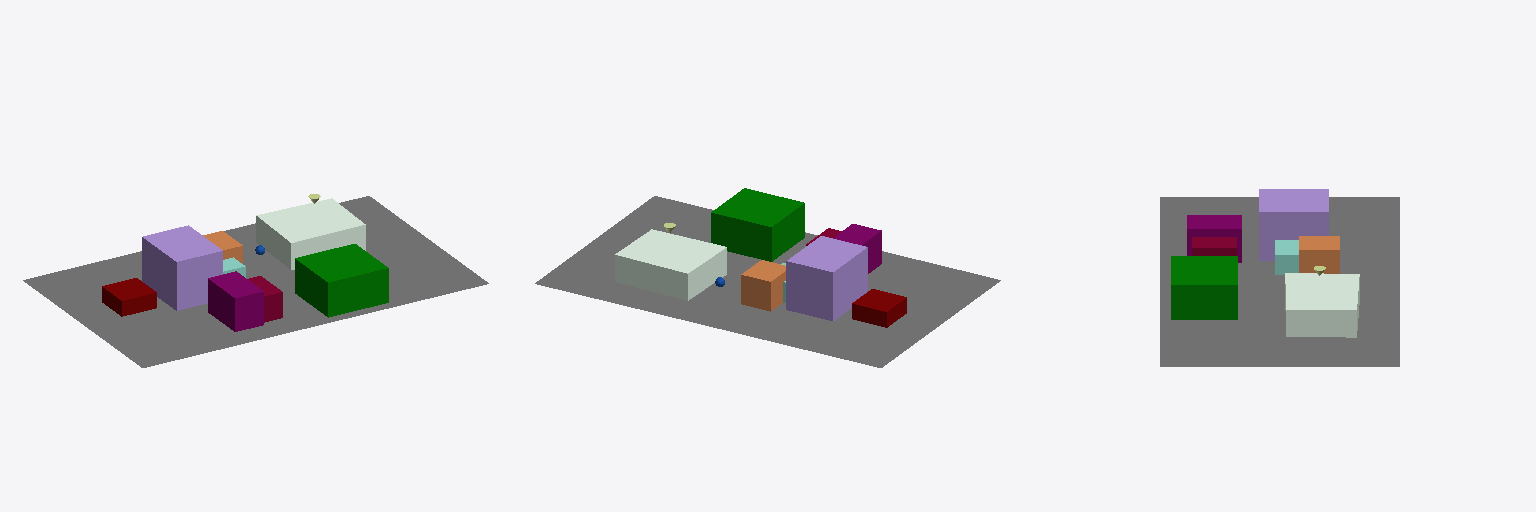
Rendered from escena_demo.obj.
3 renders of one model, left to right at view 1: azimuth 30°, elevation 25°; view 2: azimuth 150°, elevation 25°; view 3: azimuth 270°, elevation 25°, orthographic.
Parts seen in each view (by area): view 1: Piso, SalaNeza, SalaMiguelCovarrubias, MUAC, TeatroJuanRuiz, SalonDanza, ForoSorJuana, Cines; view 2: Piso, MUAC, SalaMiguelCovarrubias, SalaNeza, Cines, SalonDanza, TeatroJuanRuiz; view 3: Piso, MUAC, SalaNeza, SalaMiguelCovarrubias, Cines, TeatroJuanRuiz, ForoSorJuana, SalaCarlosChaves.
Part boxes in pixels (left/top/right/bottom): Piso: left=23, top=196, right=488, bottom=367; SalaNeza: left=295, top=244, right=388, bottom=317; SalaMiguelCovarrubias: left=142, top=225, right=222, bottom=310; MUAC: left=256, top=198, right=365, bottom=269; TeatroJuanRuiz: left=208, top=271, right=263, bottom=331; SalonDanza: left=102, top=278, right=156, bottom=316; ForoSorJuana: left=248, top=276, right=282, bottom=322; Cines: left=203, top=231, right=242, bottom=263; Piso: left=535, top=196, right=1000, bottom=367; MUAC: left=615, top=229, right=726, bottom=300; SalaMiguelCovarrubias: left=786, top=236, right=867, bottom=320; SalaNeza: left=711, top=188, right=804, bottom=261; Cines: left=741, top=260, right=785, bottom=311; SalonDanza: left=852, top=289, right=906, bottom=327; TeatroJuanRuiz: left=833, top=224, right=881, bottom=273; Piso: left=1160, top=197, right=1399, bottom=366; MUAC: left=1285, top=273, right=1359, bottom=337; SalaNeza: left=1171, top=256, right=1237, bottom=319; SalaMiguelCovarrubias: left=1259, top=189, right=1328, bottom=260; Cines: left=1299, top=236, right=1339, bottom=273; TeatroJuanRuiz: left=1187, top=215, right=1241, bottom=262; ForoSorJuana: left=1192, top=237, right=1236, bottom=255; SalaCarlosChaves: left=1275, top=240, right=1298, bottom=274.
Size of the model in its own units: 575 by 82.47 by 346.